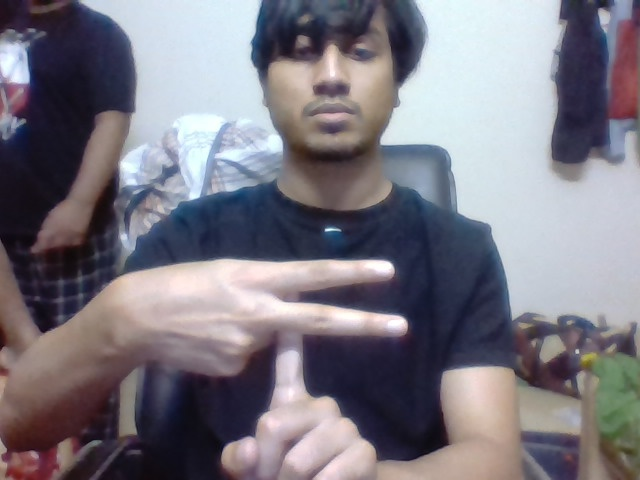F: (270, 255, 414, 396)
